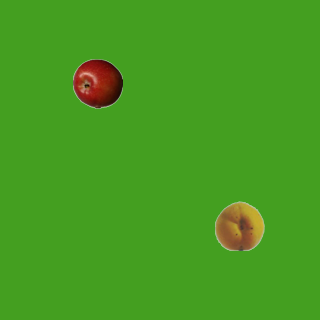Apple Braeburn: (72, 58, 122, 108)
Peach 2: (214, 200, 264, 250)
